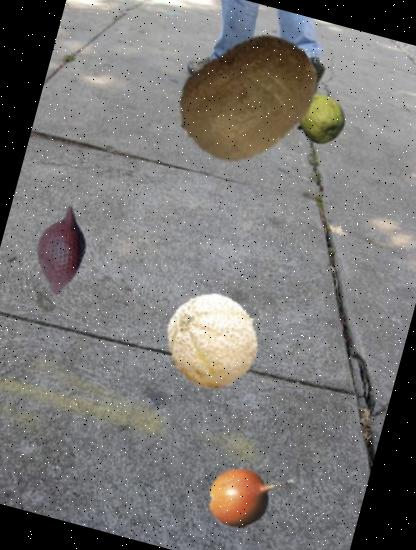Cantaloupe: (153, 282, 272, 400)
Granadilla: (197, 445, 305, 550)
Kiwi: (160, 10, 338, 188)
Limes: (288, 88, 352, 152)
Salak: (6, 194, 116, 305)
